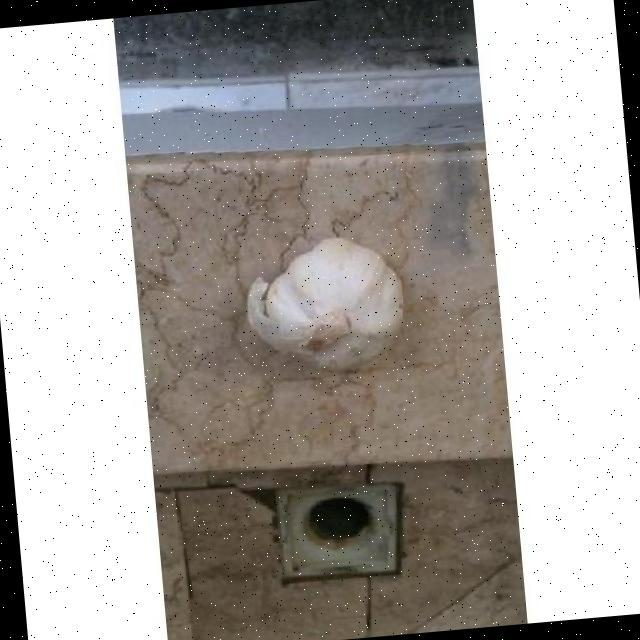garlic: (245, 237, 402, 367)
